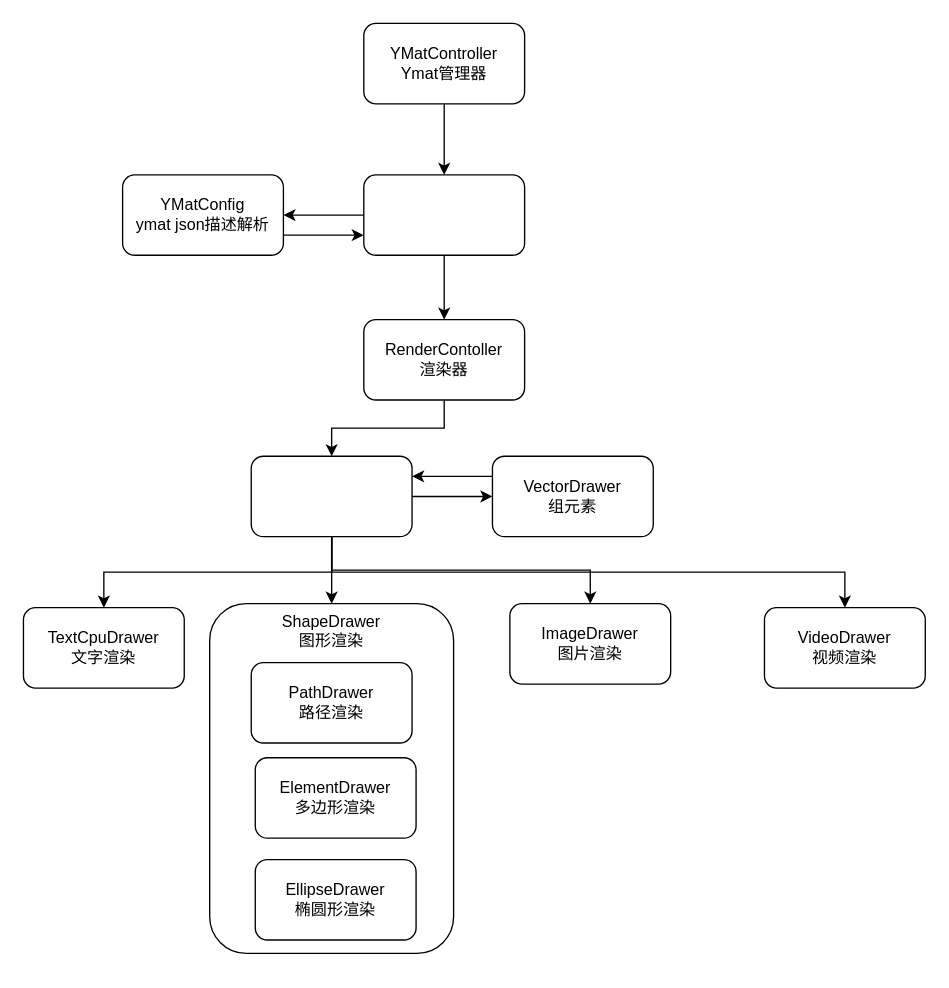
This 949x988 diagram has some shape labels left out. The centre of each missing label's shape, as x and y in pixels:
"Layers 层级管理器" goes at point (331, 496).
"YMatPlayer ymat播放器" goes at point (443, 214).
